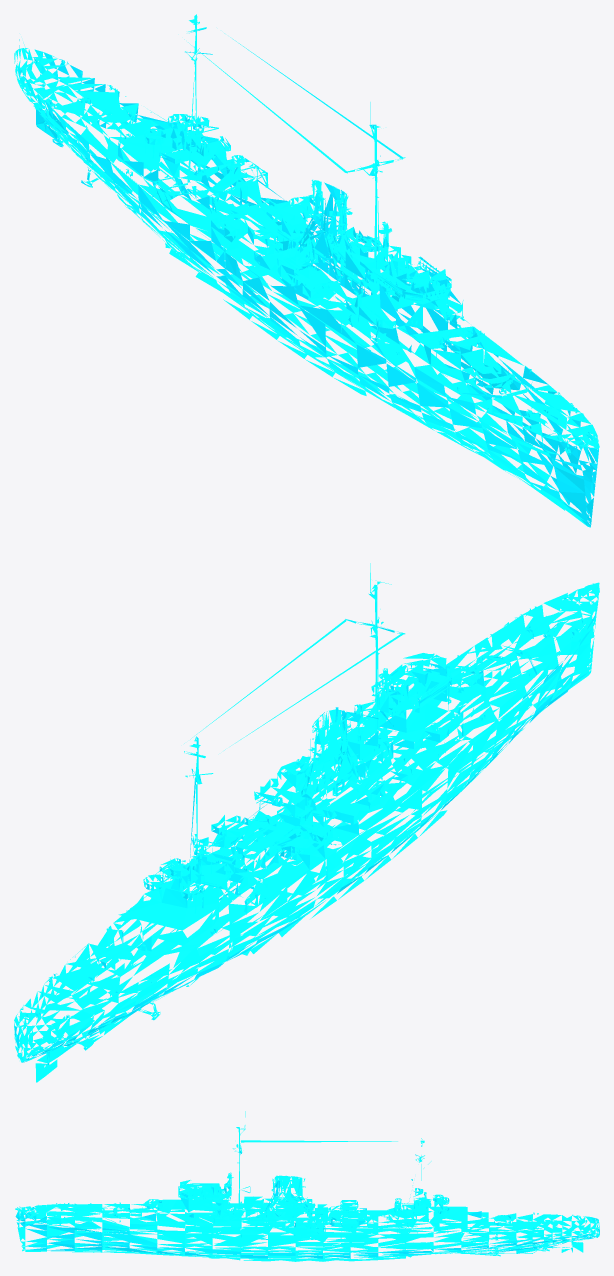
The model's file is Delhi.glb.
3 renders of one model, top to bottom at view 1: azimuth 30°, elevation 25°; view 2: azimuth 150°, elevation 25°; view 3: azimuth 270°, elevation 25°, orthographic. The views are drawn at different scales.
Size of the model in its own units: 1.17 by 3.02 by 11.26.
